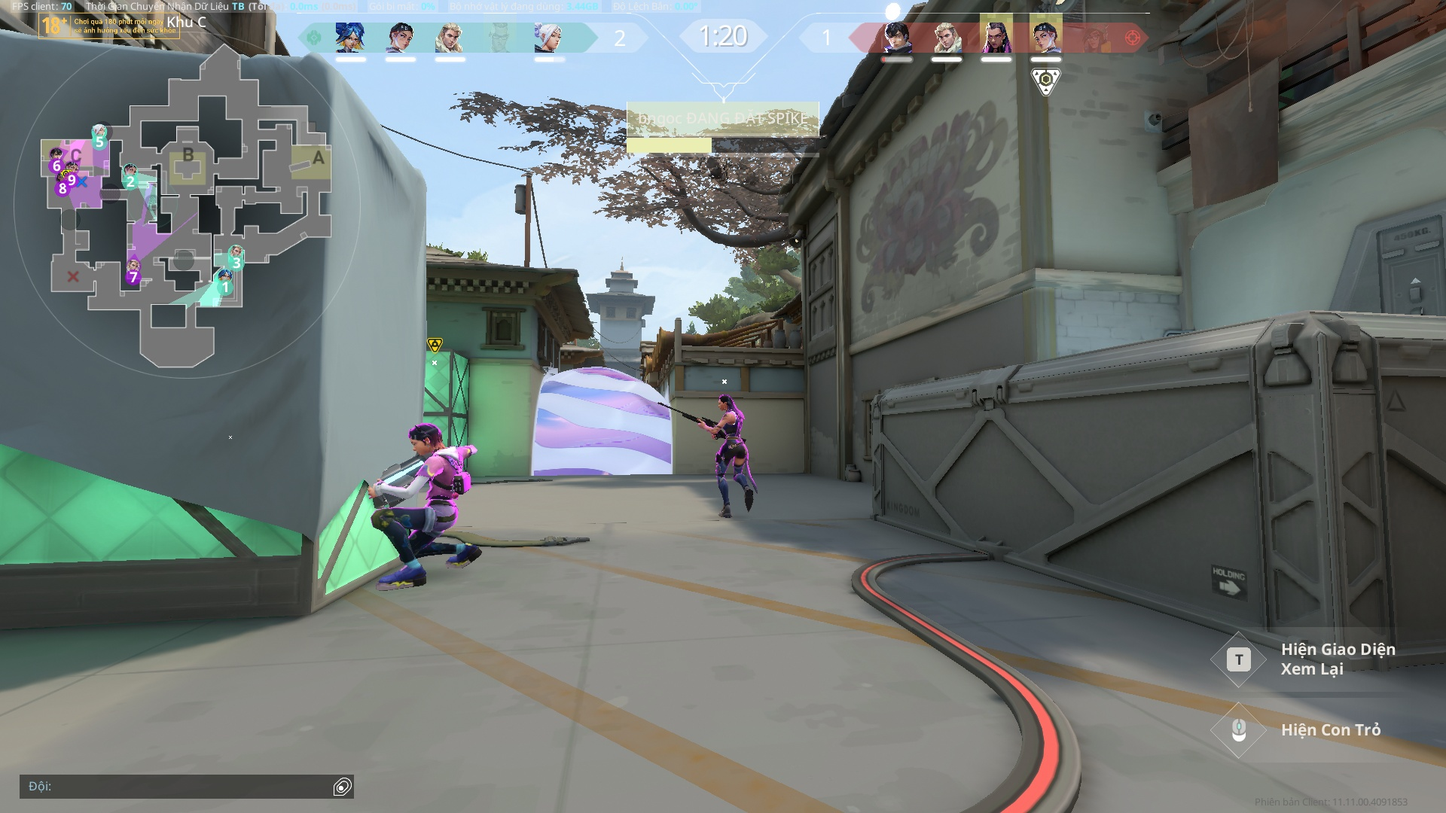body: (419, 448, 470, 502), (720, 410, 747, 442)
head: (406, 422, 441, 451), (718, 392, 737, 412)
